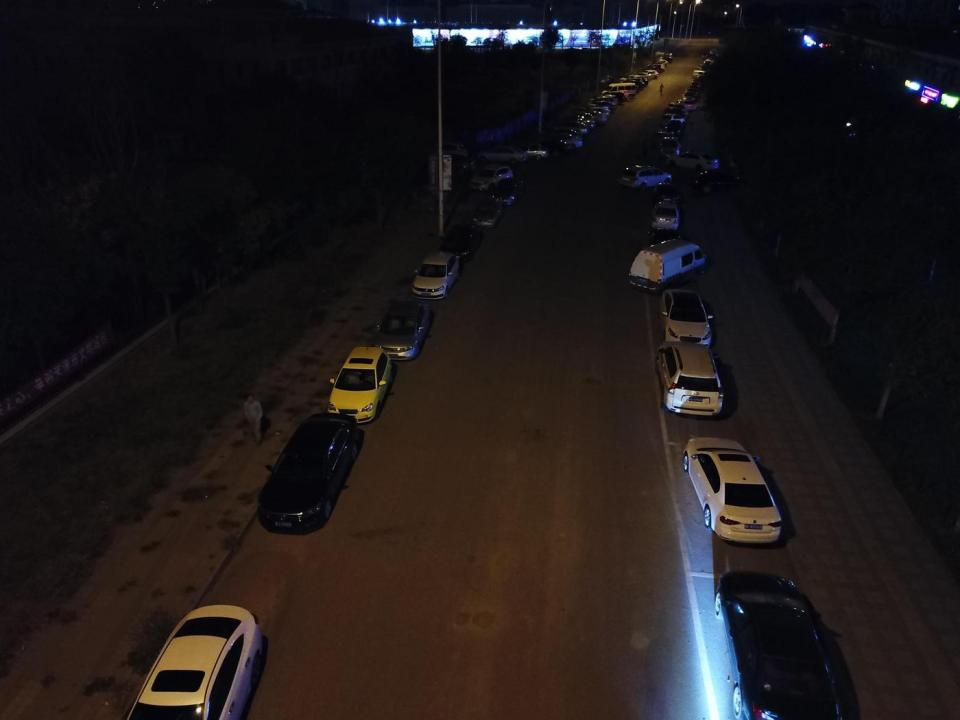car: (711, 570, 843, 720), (125, 600, 267, 720), (256, 412, 362, 534), (680, 433, 783, 546), (329, 340, 394, 425), (656, 336, 722, 418), (371, 298, 435, 358), (658, 287, 718, 350), (406, 250, 461, 299), (467, 160, 517, 194), (690, 166, 749, 194), (440, 219, 482, 258), (618, 162, 674, 188), (424, 151, 476, 176), (664, 149, 720, 171), (489, 174, 524, 208), (647, 224, 684, 256), (475, 145, 528, 165), (651, 196, 681, 231), (423, 139, 470, 161), (538, 132, 582, 152), (648, 182, 682, 206), (504, 143, 548, 161), (475, 197, 503, 224), (531, 138, 571, 156), (547, 126, 584, 144), (561, 114, 595, 132), (556, 120, 590, 137), (586, 95, 615, 113), (652, 132, 681, 150), (580, 102, 608, 119), (658, 136, 680, 157), (590, 94, 618, 110), (577, 109, 606, 124), (569, 111, 597, 126), (578, 106, 610, 119), (619, 76, 648, 90), (659, 113, 686, 127), (586, 101, 615, 114), (664, 120, 684, 138), (619, 77, 644, 91), (619, 80, 645, 93), (614, 82, 640, 94), (664, 108, 688, 121), (600, 92, 627, 103), (678, 99, 702, 111), (667, 102, 689, 113), (632, 72, 652, 84), (628, 74, 649, 85), (635, 69, 659, 78), (642, 66, 660, 76), (661, 52, 675, 62), (682, 90, 695, 100), (647, 63, 663, 71), (654, 59, 669, 67), (652, 61, 666, 69), (687, 86, 700, 94), (652, 62, 664, 70), (688, 81, 700, 88), (690, 77, 701, 84), (688, 83, 698, 90), (709, 48, 718, 55), (699, 53, 708, 60), (705, 57, 714, 64), (704, 60, 712, 66), (700, 64, 708, 70)
van: (626, 238, 707, 295), (601, 82, 636, 98), (692, 69, 710, 80)
